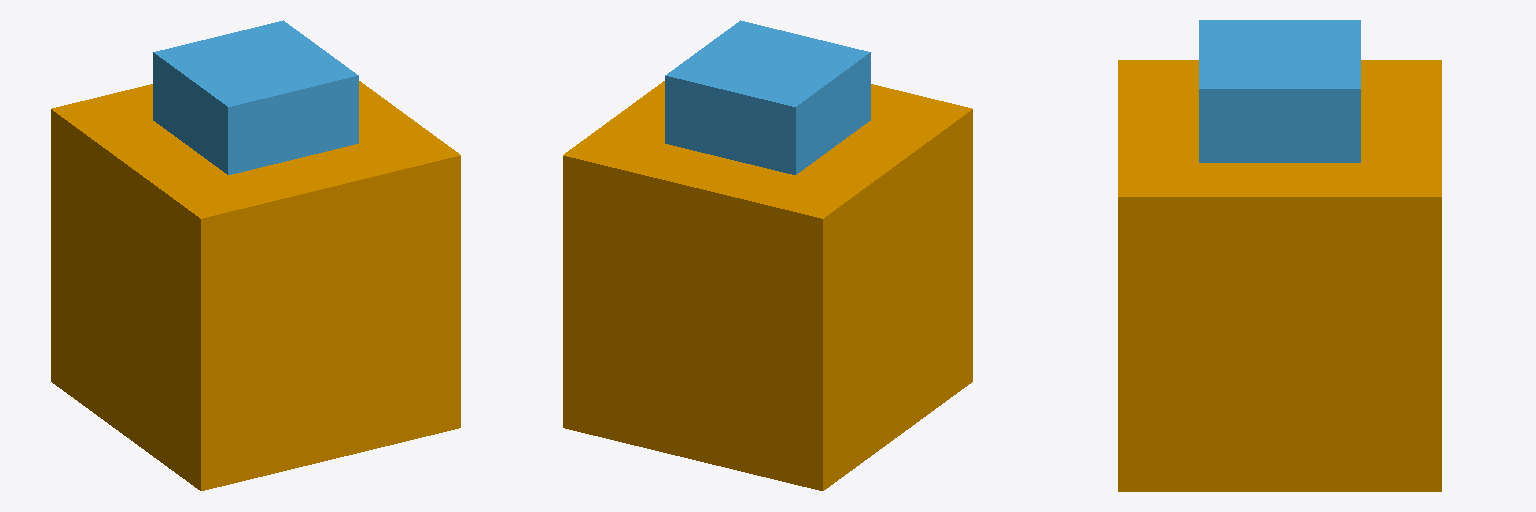
URDF robot description (test_leg):
<?xml version="1.0"?>
<robot name="test_leg">
  <!-- BASE LINK -->
  <link name="base">
    <inertial>
      <mass value="1.0"/>
      <inertia ixx="0.1" ixy="0" ixz="0" iyy="0.1" iyz="0" izz="0.1"/>
    </inertial>
    <visual>
      <geometry><box size="0.2 0.2 0.2"/></geometry>
    </visual>
    <collision>
      <geometry><box size="0.2 0.2 0.2"/></geometry>
    </collision>
  </link>

  <!-- HIP LINK -->
  <link name="hip">
    <inertial>
      <mass value="0.5"/>
      <inertia ixx="0.01" ixy="0" ixz="0" iyy="0.01" iyz="0" izz="0.01"/>
    </inertial>
    <visual>
      <geometry><box size="0.1 0.1 0.1"/></geometry>
    </visual>
    <collision>
      <geometry><box size="0.1 0.1 0.1"/></geometry>
    </collision>
  </link>

  <!-- JOINT -->
  <joint name="hip_joint" type="revolute">
    <parent link="base"/>
    <child link="hip"/>
    <origin xyz="0 0 0.1"/>
    <axis xyz="1 0 0"/>
    <limit lower="-1.57" upper="1.57" effort="10" velocity="10"/>
    <dynamics damping="0.1" friction="0.0"/>
  </joint>

  <!-- ROS2 CONTROL -->
  <ros2_control name="GazeboSystem" type="system">
    <hardware>
      <plugin>gz_ros2_control/GazeboSimSystem</plugin>
    </hardware>
    <joint name="hip_joint">
      <command_interface name="effort">
        <param name="min">-10</param>
        <param name="max">10</param>
      </command_interface>
      <state_interface name="position"/>
      <state_interface name="velocity"/>
      <state_interface name="effort"/>
      <param name="initial_position">0.0</param>
    </joint>
  </ros2_control>

  <!-- GAZEBO PLUGIN -->
  <gazebo>
    <plugin name="gz_ros2_control::GazeboSimROS2ControlPlugin" filename="gz_ros2_control-system">
      <parameters>/home/ager/delivery_dog_ws/install/b2_description/share/b2_description/config/robot_control.yaml</parameters>
      <ros>
        <arg name="use_sim_time" value="true"/>
      </ros>
    </plugin>
  </gazebo>
</robot>

--- Render facts (derived) ---
3 views of the same robot in one strip: view 1: azimuth 30°, elevation 25°; view 2: azimuth 150°, elevation 25°; view 3: azimuth 270°, elevation 25° (orthographic).
Robot: test_leg — 2 links, 1 joints (1 revolute); root link base; default pose: every joint at zero.
Links seen in each view (by area): view 1: base, hip; view 2: base, hip; view 3: base, hip.
Link boxes in pixels (bbox=[...]): base: bbox=[51, 81, 460, 490]; hip: bbox=[153, 20, 358, 174]; base: bbox=[563, 81, 972, 490]; hip: bbox=[665, 20, 870, 174]; base: bbox=[1118, 60, 1441, 491]; hip: bbox=[1199, 20, 1360, 162].
Bounding box of the posed robot: 0.2 × 0.2 × 0.25 m (x, y, z).
Geometry: primitives only (box / cylinder / sphere), no mesh files.
